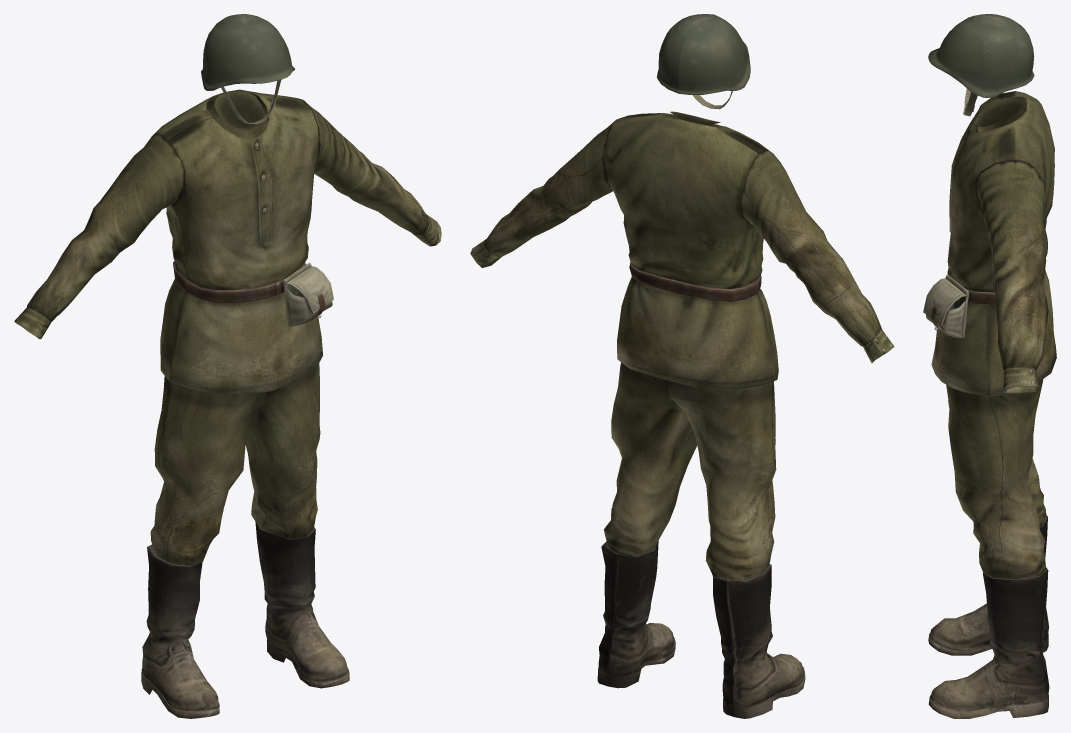
Rendered from wwii-russian-donor.glb.
3 renders of one model, left to right at view 1: azimuth 30°, elevation 25°; view 2: azimuth 150°, elevation 25°; view 3: azimuth 270°, elevation 25°, orthographic.
Parts seen in each view (by area): view 1: wardrobe_jacket, wardrobe_trousers, wardrobe_boot_right, wardrobe_boot_left, wardrobe_headgear, wardrobe_role_kit, wardrobe_belt; view 2: wardrobe_jacket, wardrobe_trousers, wardrobe_boot_left, wardrobe_boot_right, wardrobe_headgear, wardrobe_belt; view 3: wardrobe_jacket, wardrobe_trousers, wardrobe_boot_right, wardrobe_headgear, wardrobe_boot_left, wardrobe_role_kit, wardrobe_belt.
Part boxes in pixels (x1=…): wardrobe_jacket: x1=14, y1=89, x2=441, y2=393; wardrobe_trousers: x1=150, y1=363, x2=320, y2=565; wardrobe_boot_right: x1=255, y1=522, x2=349, y2=688; wardrobe_boot_left: x1=141, y1=544, x2=219, y2=718; wardrobe_headgear: x1=201, y1=14, x2=294, y2=124; wardrobe_role_kit: x1=283, y1=262, x2=333, y2=326; wardrobe_belt: x1=173, y1=260, x2=305, y2=302; wardrobe_jacket: x1=470, y1=111, x2=894, y2=389; wardrobe_trousers: x1=604, y1=362, x2=776, y2=580; wardrobe_boot_left: x1=712, y1=564, x2=805, y2=718; wardrobe_boot_right: x1=597, y1=541, x2=675, y2=688; wardrobe_headgear: x1=657, y1=14, x2=750, y2=109; wardrobe_belt: x1=629, y1=262, x2=761, y2=301; wardrobe_jacket: x1=931, y1=91, x2=1056, y2=396; wardrobe_trousers: x1=946, y1=379, x2=1046, y2=579; wardrobe_boot_right: x1=928, y1=567, x2=1049, y2=718; wardrobe_headgear: x1=928, y1=14, x2=1034, y2=116; wardrobe_boot_left: x1=928, y1=515, x2=1048, y2=655; wardrobe_role_kit: x1=923, y1=274, x2=969, y2=337; wardrobe_belt: x1=947, y1=260, x2=1046, y2=304.
Size of the model in its own units: 121 by 183 by 33.65.
3 materials, 3 textured.
